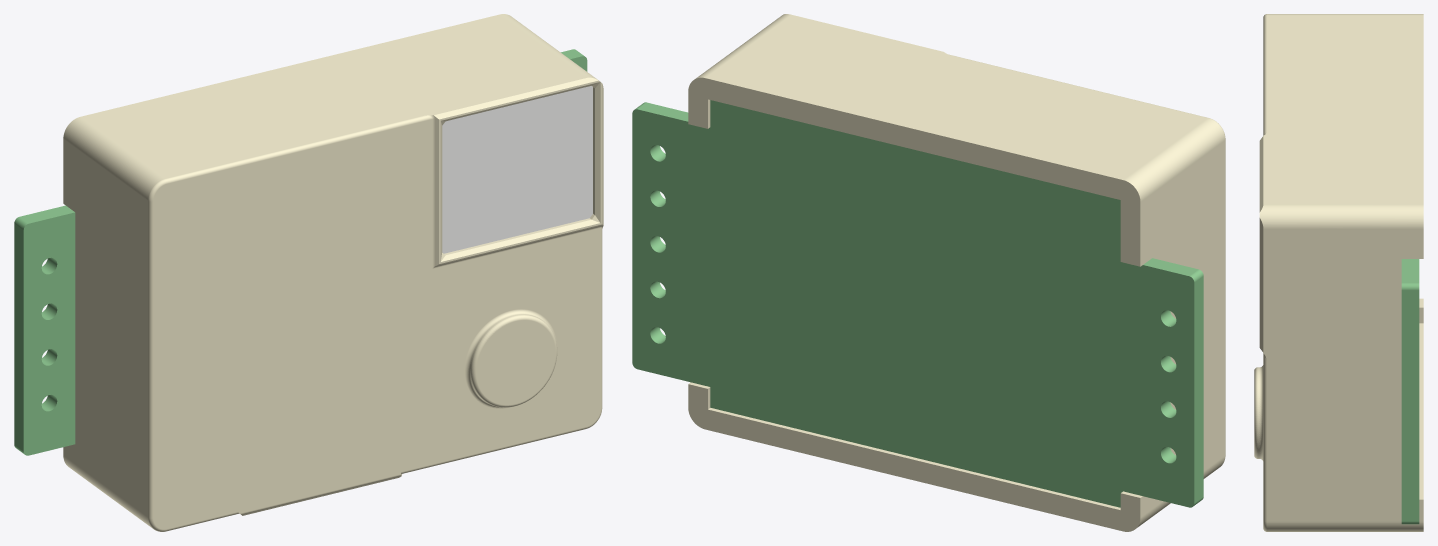
3 renders of one model, left to right at view 1: azimuth 30°, elevation 25°; view 2: azimuth 150°, elevation 25°; view 3: azimuth 270°, elevation 25°, orthographic. The views are drawn at different scales.
Parts seen in each view (by area): view 1: Node1, Node2, Node3; view 2: Node3, Node1; view 3: Node1, Node3.
Boxes of the visible parts, left/top/right/bottom form: Node1: left=63, top=14, right=603, bottom=531; Node2: left=442, top=86, right=592, bottom=253; Node3: left=14, top=49, right=587, bottom=455; Node3: left=632, top=100, right=1203, bottom=507; Node1: left=688, top=14, right=1225, bottom=531; Node1: left=1254, top=14, right=1423, bottom=531; Node3: left=1401, top=259, right=1419, bottom=524.
Size of the model in its own units: 32.8 by 19.8 by 9.25.
